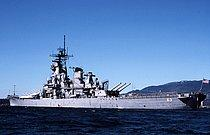MIL_Ship: (9, 36, 204, 109)
